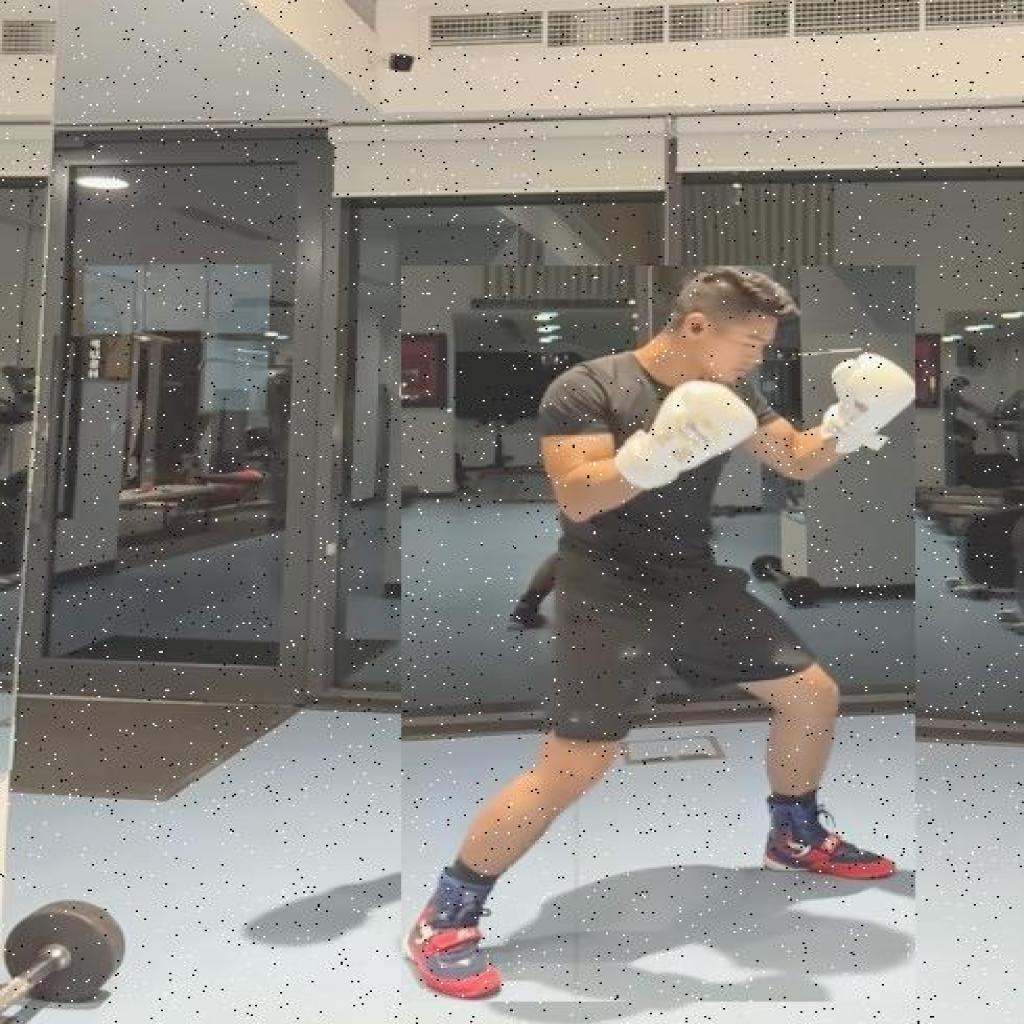no punch: (402, 266, 916, 1002)
